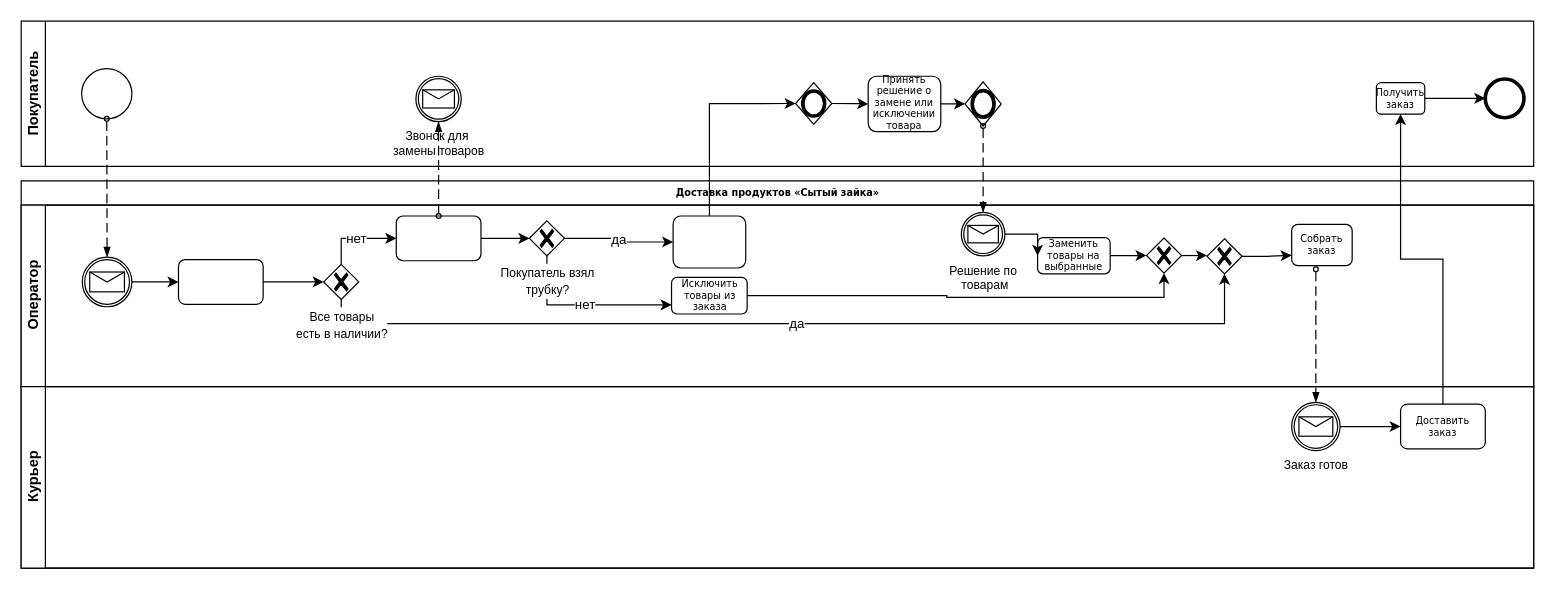
Some shapes in this 1566 by 589 pixel diagram are drawn without their labels. Each missing label, with the centre of its shape:
Заказ оформлен: (x=106, y=93)
Заказ получен: (x=1504, y=98)
Заменить товары?: (x=813, y=102)
Позвонить покупателю: (x=438, y=238)
Поступил новый заказ: (x=106, y=281)
Предложить замену товаров: (x=709, y=241)
Проверить наличие всех товаров: (x=220, y=281)
